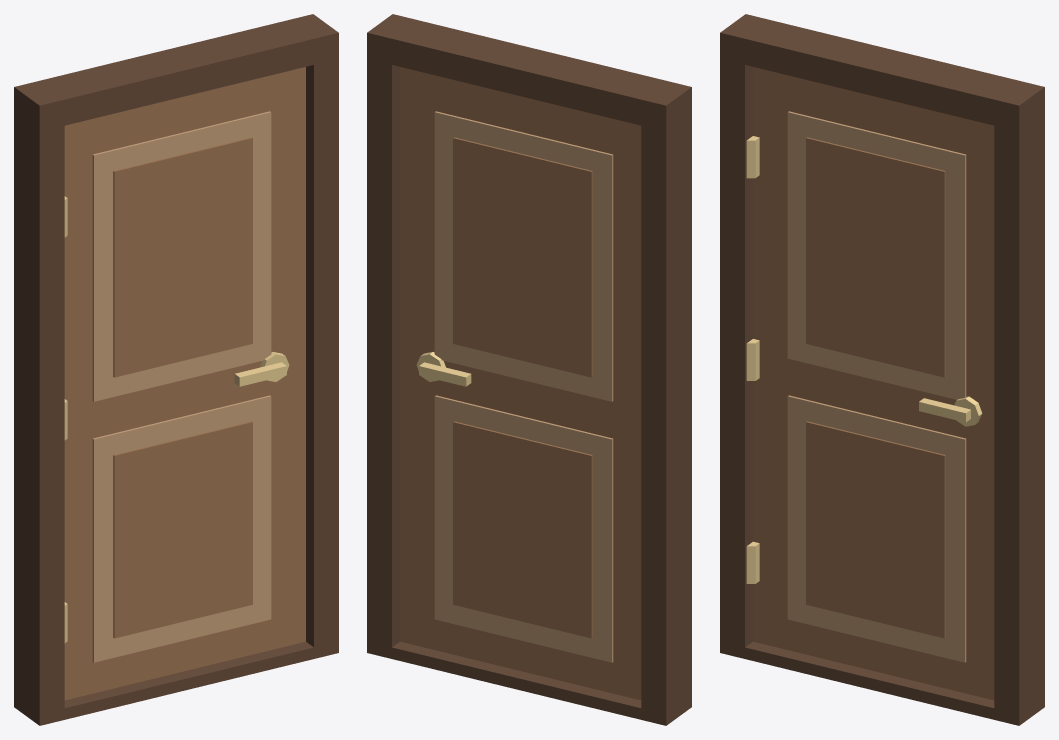
File: door.fbx
The picture shows the model from 3 angles, left to right: view 1: azimuth 30°, elevation 25°; view 2: azimuth 150°, elevation 25°; view 3: azimuth 330°, elevation 25°; orthographic projection.
Parts seen in each view (by area): view 1: LP_Door_Slab, LP_Jamb_L, LP_Panel_TopIn, LP_Panel_BottomIn, LP_Jamb_R, LP_Panel_Top, LP_Panel_Bottom, LP_Header, LP_Sill, LP_Lever_B; view 2: LP_Door_Slab, LP_Jamb_L, LP_Panel_TopIn, LP_Panel_BottomIn, LP_Jamb_R, LP_Panel_Top, LP_Panel_Bottom, LP_Header, LP_Sill, LP_Lever_F; view 3: LP_Door_Slab, LP_Jamb_R, LP_Panel_TopIn, LP_Panel_BottomIn, LP_Jamb_L, LP_Panel_Top, LP_Panel_Bottom, LP_Header, LP_Sill, LP_Lever_B, LP_Hinge_2, LP_Hinge_0 (+1 smaller).
Part boxes in pixels (bbox=[...]): LP_Door_Slab: bbox=[64, 67, 305, 700]; LP_Jamb_L: bbox=[14, 81, 64, 725]; LP_Panel_TopIn: bbox=[113, 137, 252, 377]; LP_Panel_BottomIn: bbox=[113, 421, 252, 638]; LP_Jamb_R: bbox=[288, 14, 338, 658]; LP_Panel_Top: bbox=[92, 111, 271, 401]; LP_Panel_Bottom: bbox=[92, 395, 271, 662]; LP_Header: bbox=[14, 20, 338, 131]; LP_Sill: bbox=[14, 641, 338, 725]; LP_Lever_B: bbox=[234, 362, 286, 386]; LP_Door_Slab: bbox=[400, 67, 641, 700]; LP_Jamb_L: bbox=[641, 81, 691, 725]; LP_Panel_TopIn: bbox=[453, 137, 592, 377]; LP_Panel_BottomIn: bbox=[453, 421, 592, 638]; LP_Jamb_R: bbox=[367, 14, 417, 658]; LP_Panel_Top: bbox=[434, 111, 613, 401]; LP_Panel_Bottom: bbox=[434, 395, 613, 662]; LP_Header: bbox=[367, 20, 691, 131]; LP_Sill: bbox=[367, 641, 691, 725]; LP_Lever_F: bbox=[419, 362, 471, 386]; LP_Door_Slab: bbox=[753, 67, 994, 700]; LP_Jamb_R: bbox=[994, 81, 1044, 725]; LP_Panel_TopIn: bbox=[806, 137, 945, 377]; LP_Panel_BottomIn: bbox=[806, 421, 945, 638]; LP_Jamb_L: bbox=[720, 14, 770, 658]; LP_Panel_Top: bbox=[787, 111, 966, 399]; LP_Panel_Bottom: bbox=[787, 395, 966, 662]; LP_Header: bbox=[720, 20, 1044, 131]; LP_Sill: bbox=[720, 641, 1044, 725]; LP_Lever_B: bbox=[919, 398, 970, 422]; LP_Hinge_2: bbox=[746, 136, 759, 178]; LP_Hinge_0: bbox=[746, 541, 759, 583].
Bounding box in the file's own units: 108 × 214 × 16.8.
